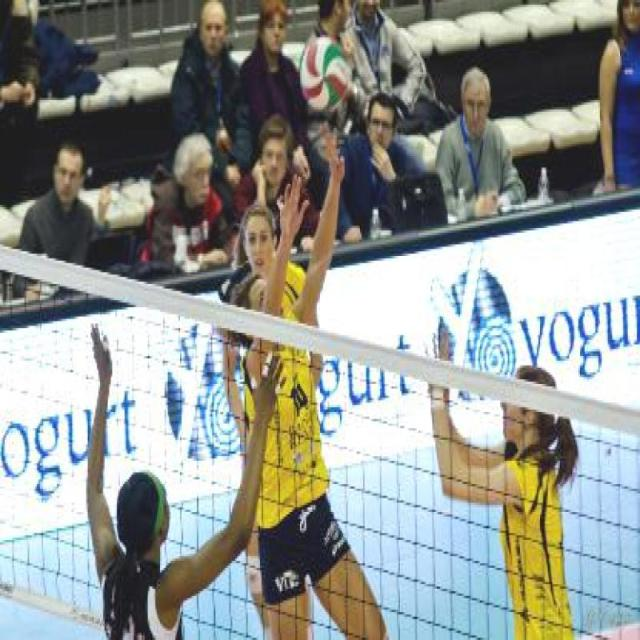volleyball: (298, 35, 352, 116)
